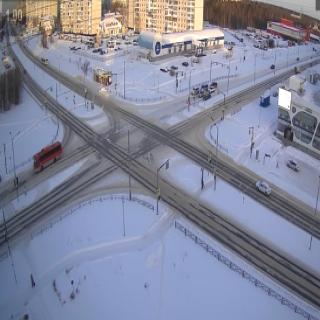large-vehicle: (31, 148, 62, 171)
small-vehicle: (253, 175, 272, 194), (38, 51, 51, 66), (203, 90, 214, 104), (210, 79, 219, 91), (192, 87, 198, 98), (200, 84, 208, 92)
